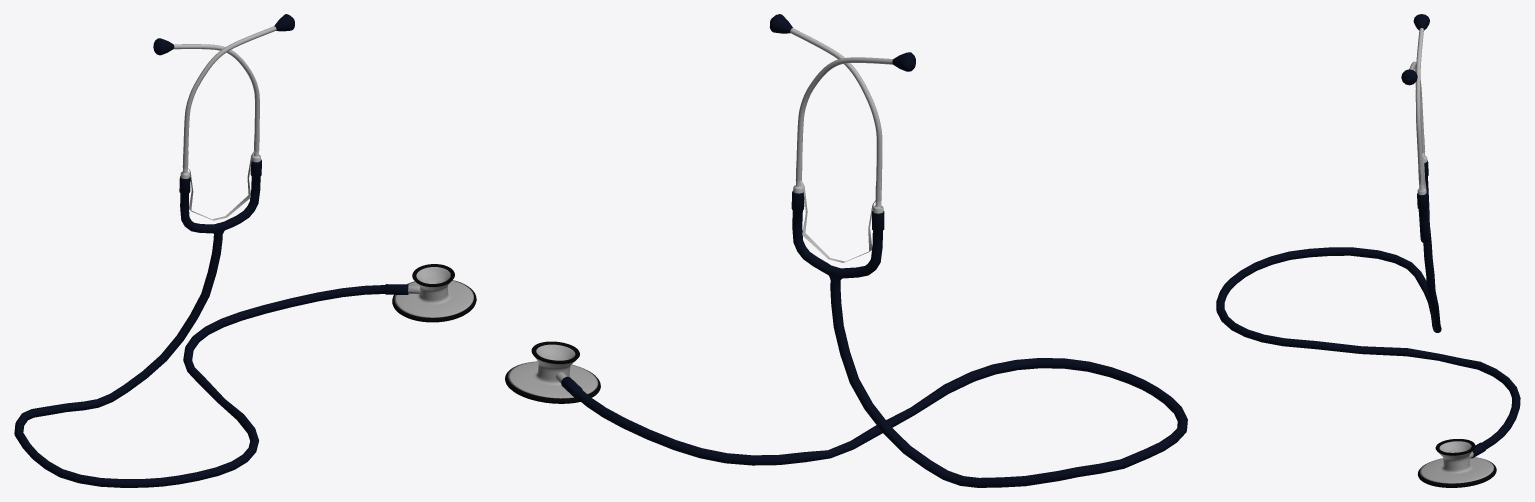
Rendered from stethoscope.glb.
The picture shows the model from 3 angles, left to right: view 1: azimuth 30°, elevation 25°; view 2: azimuth 150°, elevation 25°; view 3: azimuth 270°, elevation 25°; orthographic projection. The views are drawn at different scales.
Visible parts, largest first — view 1: Plane, Circle, Plane.003, Plane.007, Plane.005; view 2: Plane, Circle, Plane.003, Plane.007; view 3: Plane, Circle, Plane.003, Plane.005.
Part boxes in pixels (x1=…): Plane: x1=14, y1=159, x2=408, y2=487; Circle: x1=392, y1=264, x2=476, y2=322; Plane.003: x1=173, y1=26, x2=276, y2=178; Plane.007: x1=182, y1=134, x2=259, y2=220; Plane.005: x1=153, y1=14, x2=294, y2=55; Plane: x1=561, y1=190, x2=1187, y2=487; Circle: x1=505, y1=341, x2=600, y2=403; Plane.003: x1=790, y1=28, x2=893, y2=213; Plane.007: x1=795, y1=161, x2=881, y2=262; Plane: x1=1216, y1=160, x2=1520, y2=458; Circle: x1=1417, y1=439, x2=1496, y2=487; Plane.003: x1=1409, y1=28, x2=1427, y2=195; Plane.005: x1=1401, y1=14, x2=1429, y2=85.
Bounding box in the file's own units: 0.6344 × 0.4313 × 0.3522.
